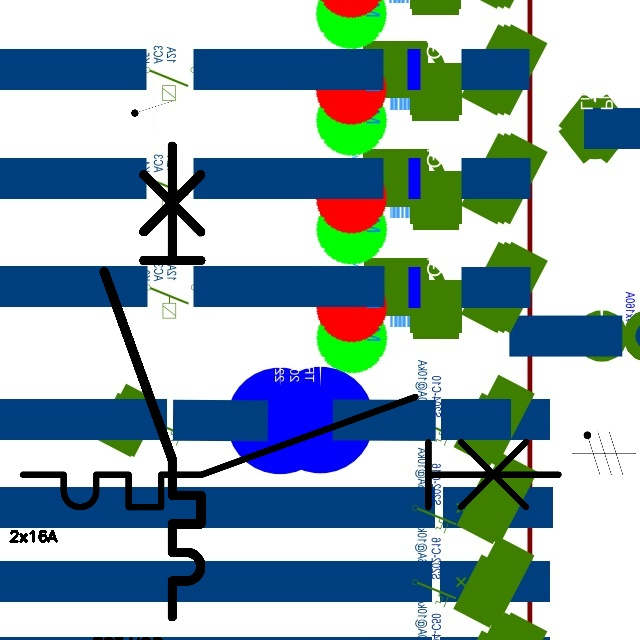interruptor_termomagnetico: (9, 383, 572, 521), (92, 133, 213, 628)
